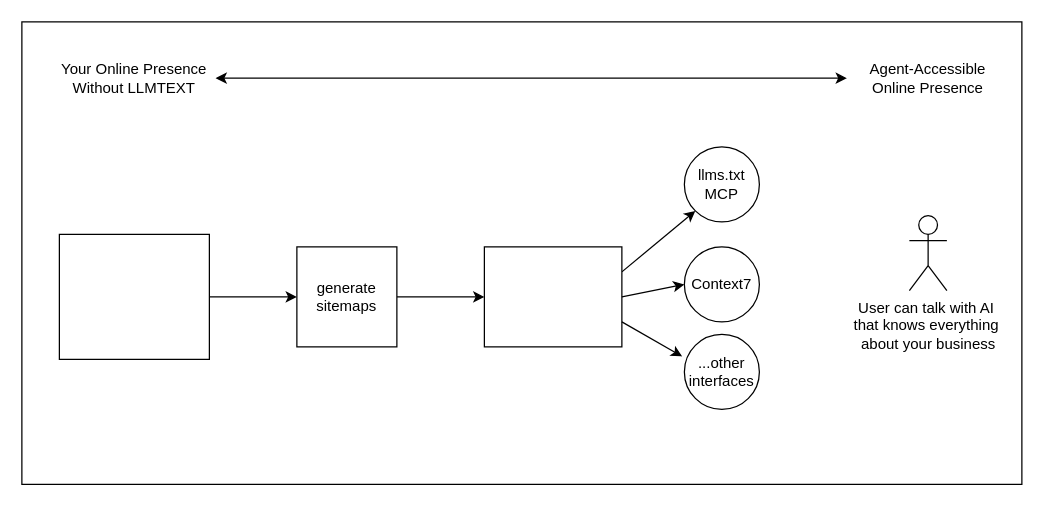
Image size: 1044x506. Some labels were removed from this diagram. The shapes that lost their labels are listed below. From the top down, each one's centre as x and y in pixels, then its label:
At point (133, 296): "multiple sources, some without sitemap available, html only".
At point (552, 296): "generate llms.txt + extract markdown ensure freshness".
